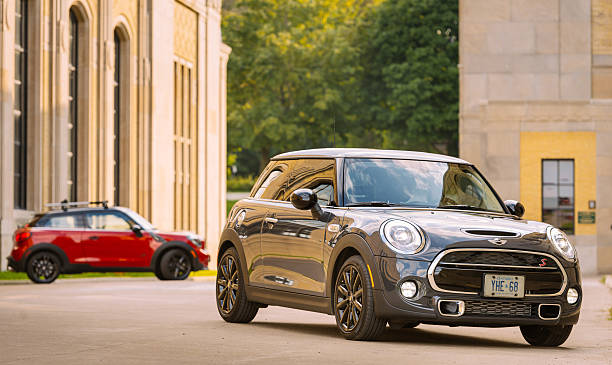licence: (479, 269, 527, 300)
